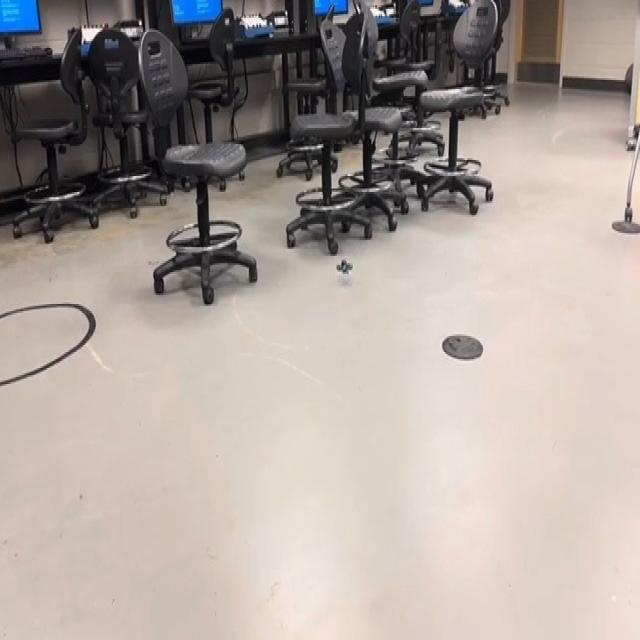drone: (328, 240, 357, 291)
